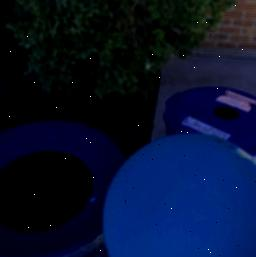algae: (105, 134, 256, 257)
